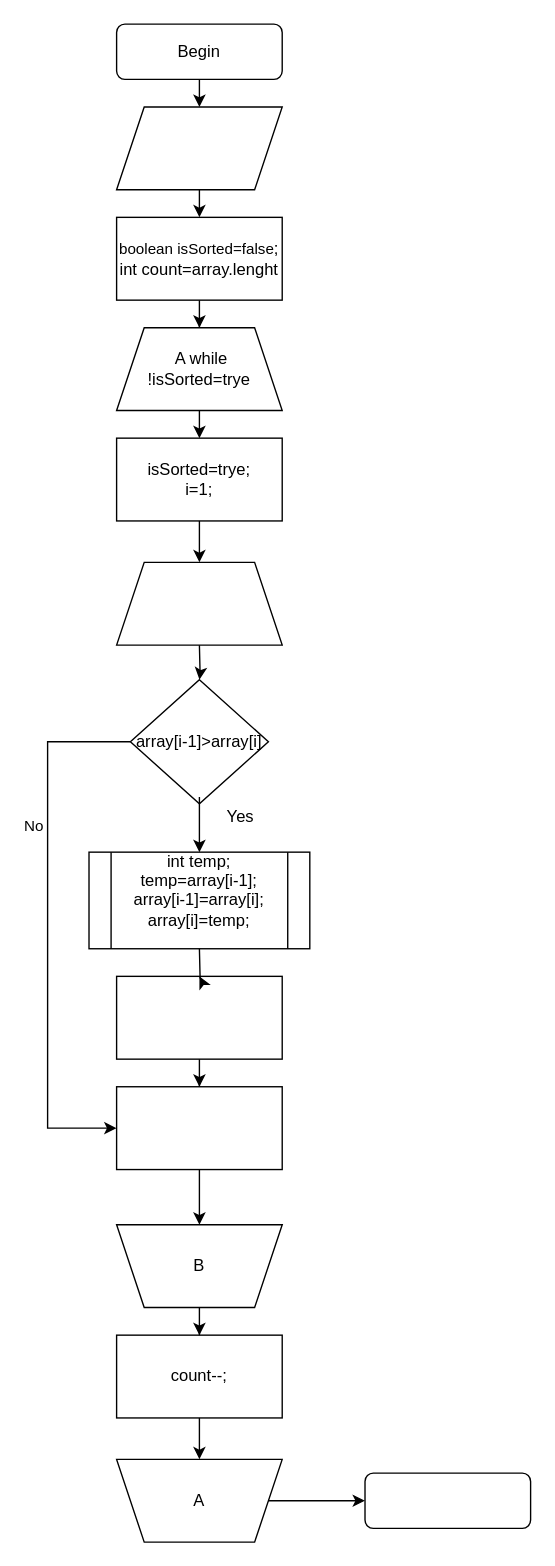
Some shapes in this 555 by 1566 pixel diagram are drawn without their labels. Here are the shapes that lost their labels. From the top down, the centre of each, then its label:
At (198,148): "Insert array".
At (198,603): "B for i i<count".
At (198,1017): "isSorted=false;".
At (198,1127): "i++;".
At (447,1500): "End".
